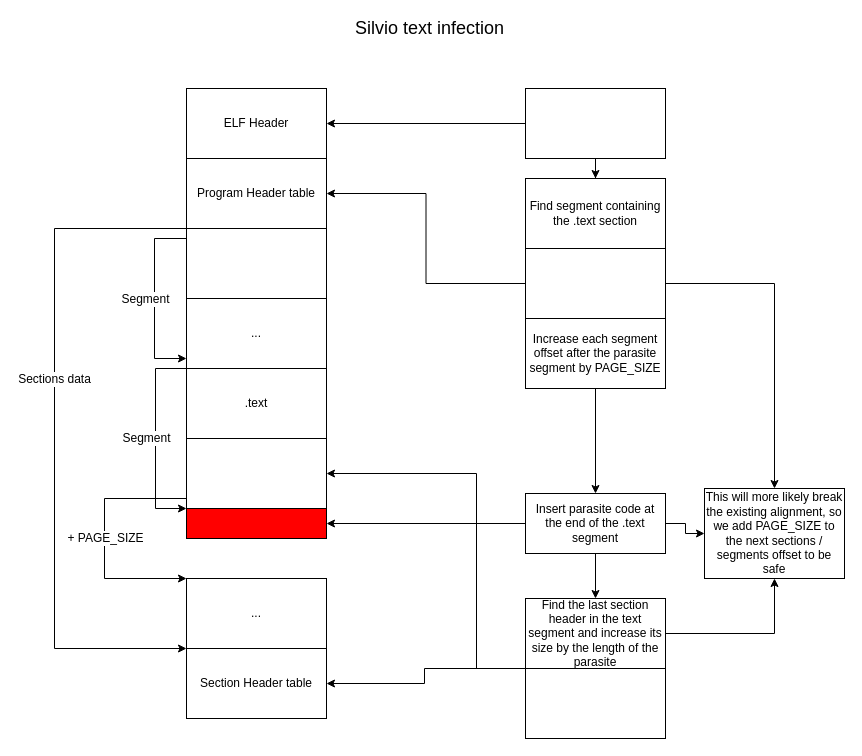
Some shapes in this 862 by 756 pixel diagram are drawn without their labels. Each missing label, with the box of its shape:
.fini: (186, 438, 326, 508)
.interp: (186, 228, 326, 298)
Increase each section offset after the parasite section by PAGE_SIZE: (524, 668, 666, 738)
Increase p_filesz / p_memsz by the size of the parasite: (524, 248, 666, 318)
Modify entry point to the parasite entry point: (524, 88, 666, 158)
Parasite code: (186, 508, 326, 538)
